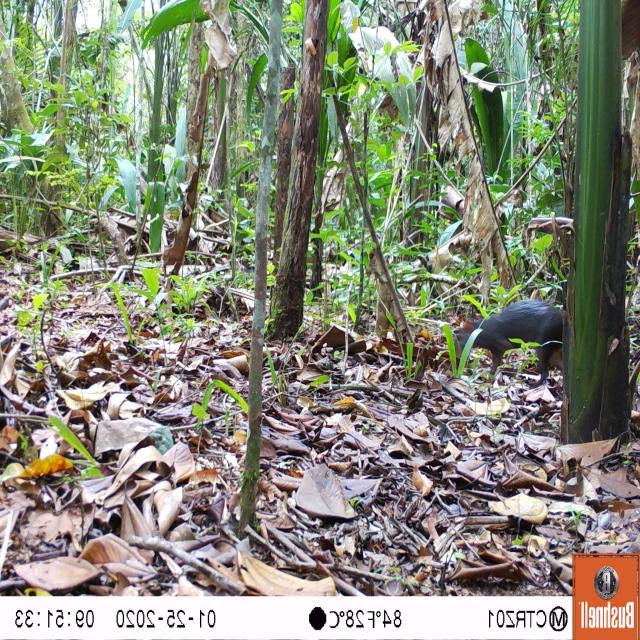Black Agouti: (444, 289, 566, 403)
